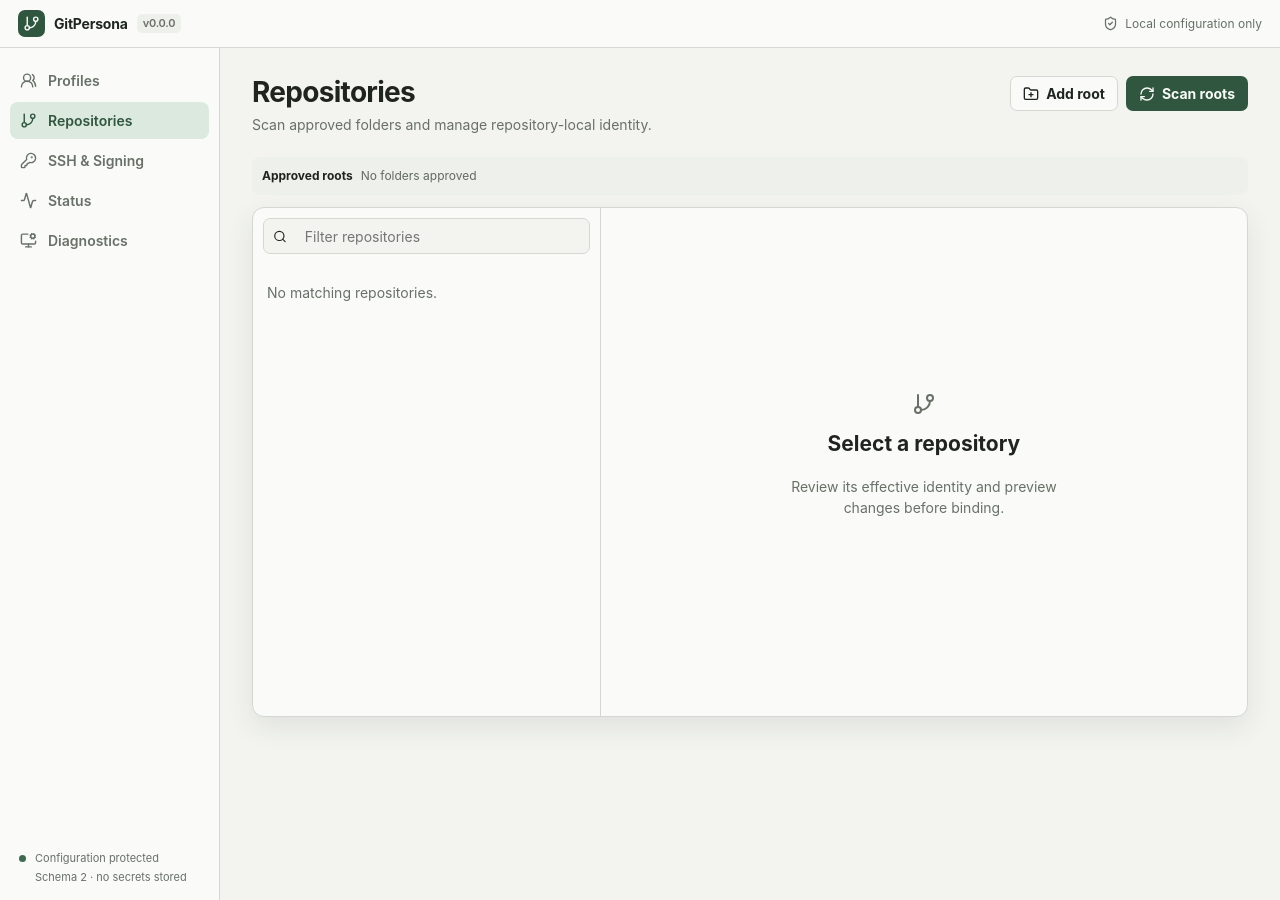
Test: GitPersona app shell › shows guidance when status has no repository
This screenshot has width=1280, height=900.
Click the button "Status": (110, 200) [10,182,209,219]
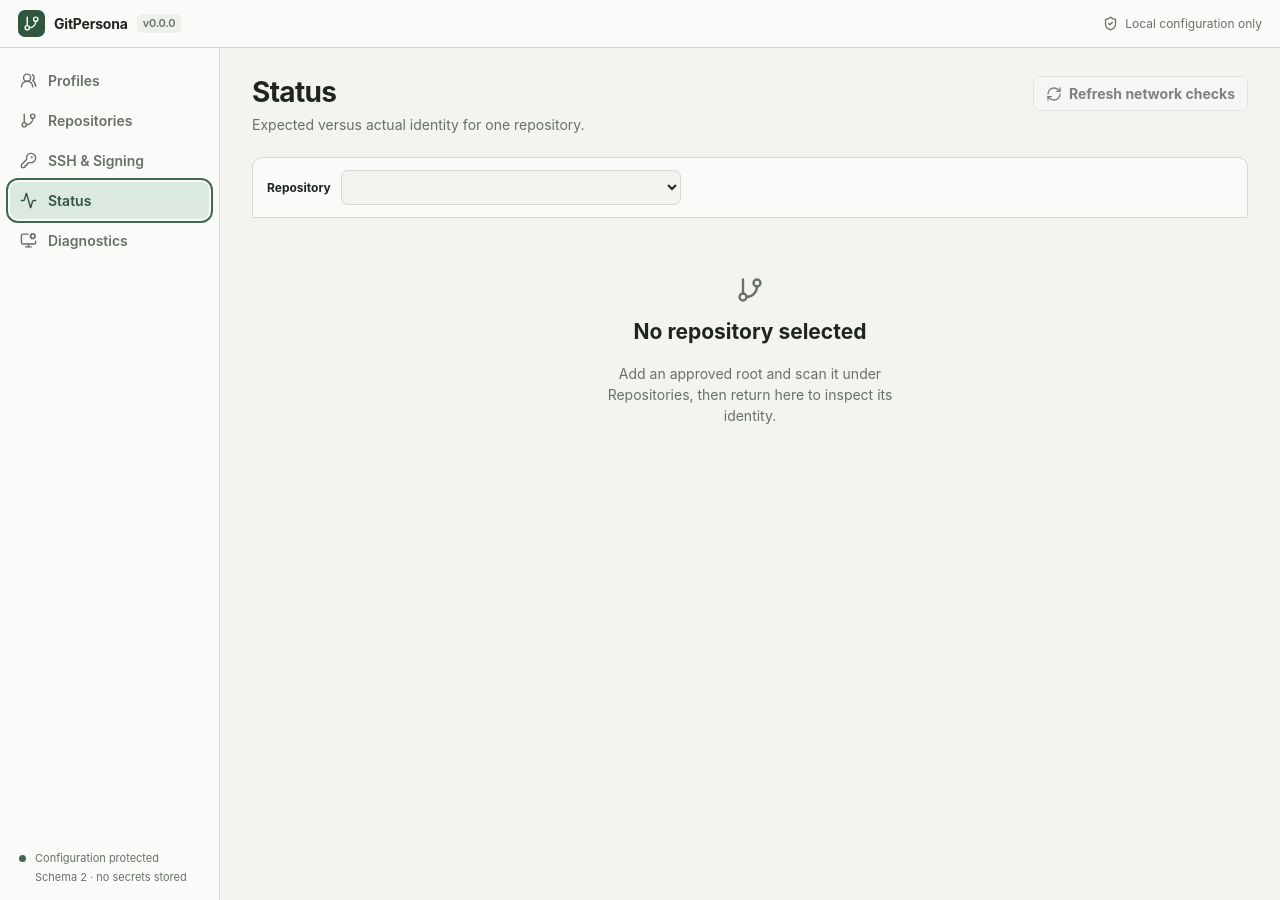
Check: the heading "No repository selected" is shown, box [634,316,866,347]
